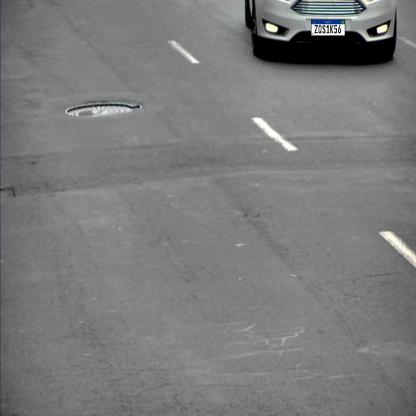PlacaM: (311, 19, 345, 36)
